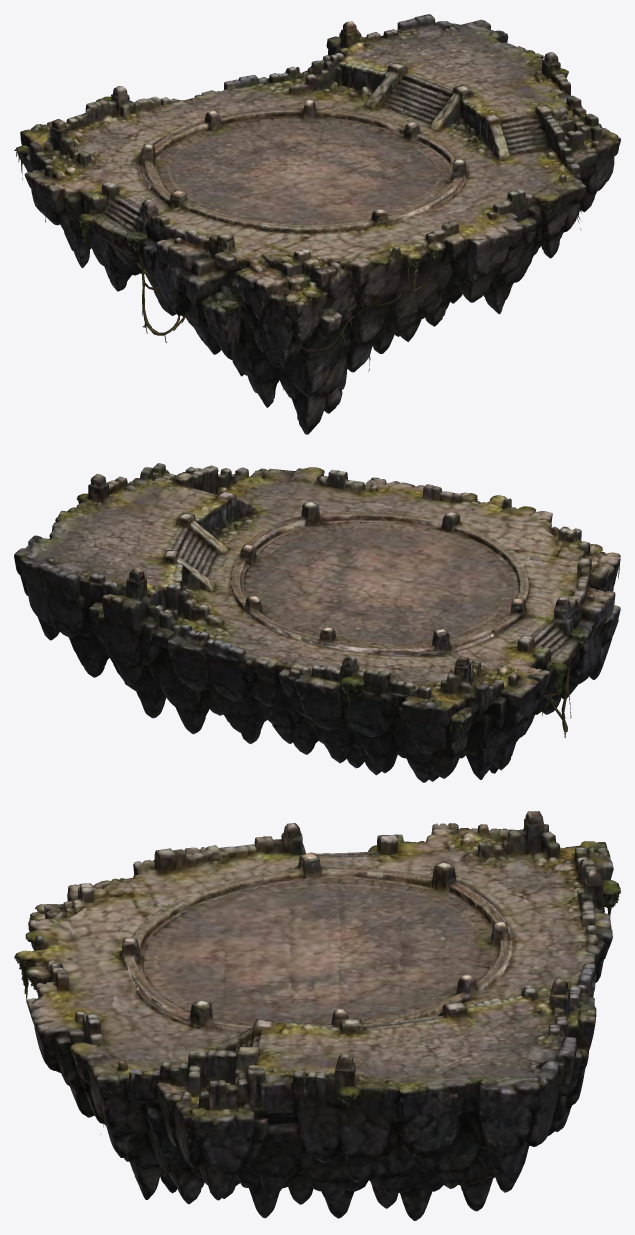
The model's file is meydan-lite.glb.
3 renders of one model, top to bottom at view 1: azimuth 30°, elevation 25°; view 2: azimuth 150°, elevation 25°; view 3: azimuth 270°, elevation 25°, orthographic. The views are drawn at different scales.
Parts seen in each view (by area): view 1: tripo_node_889045d9-fb1d-44af-80c0-3f6f58f1b7df; view 2: tripo_node_889045d9-fb1d-44af-80c0-3f6f58f1b7df; view 3: tripo_node_889045d9-fb1d-44af-80c0-3f6f58f1b7df.
Part boxes in pixels (x1,y1,x2,y2): tripo_node_889045d9-fb1d-44af-80c0-3f6f58f1b7df: [14, 14, 620, 434]; tripo_node_889045d9-fb1d-44af-80c0-3f6f58f1b7df: [14, 463, 620, 782]; tripo_node_889045d9-fb1d-44af-80c0-3f6f58f1b7df: [14, 811, 620, 1220].
Size of the model in its own units: 0.9794 by 0.4994 by 0.8185.
Materials: 1 (1 with a texture image).
